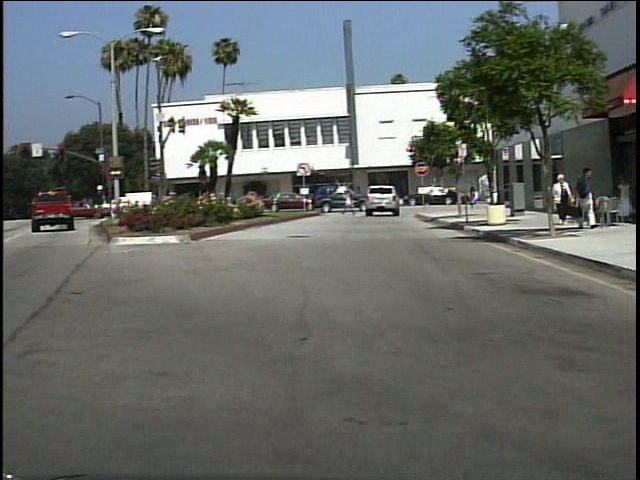person: (575, 164, 601, 231), (551, 174, 574, 227), (613, 175, 636, 224), (343, 186, 358, 218), (468, 180, 482, 214)
